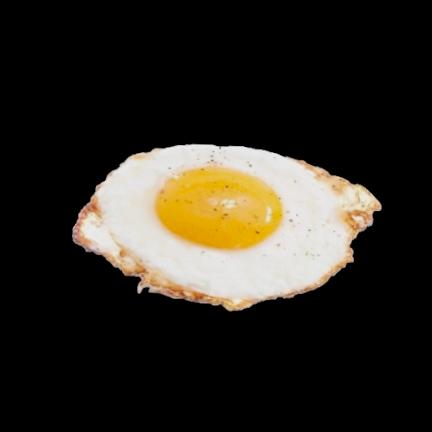egg: (72, 144, 380, 310)
